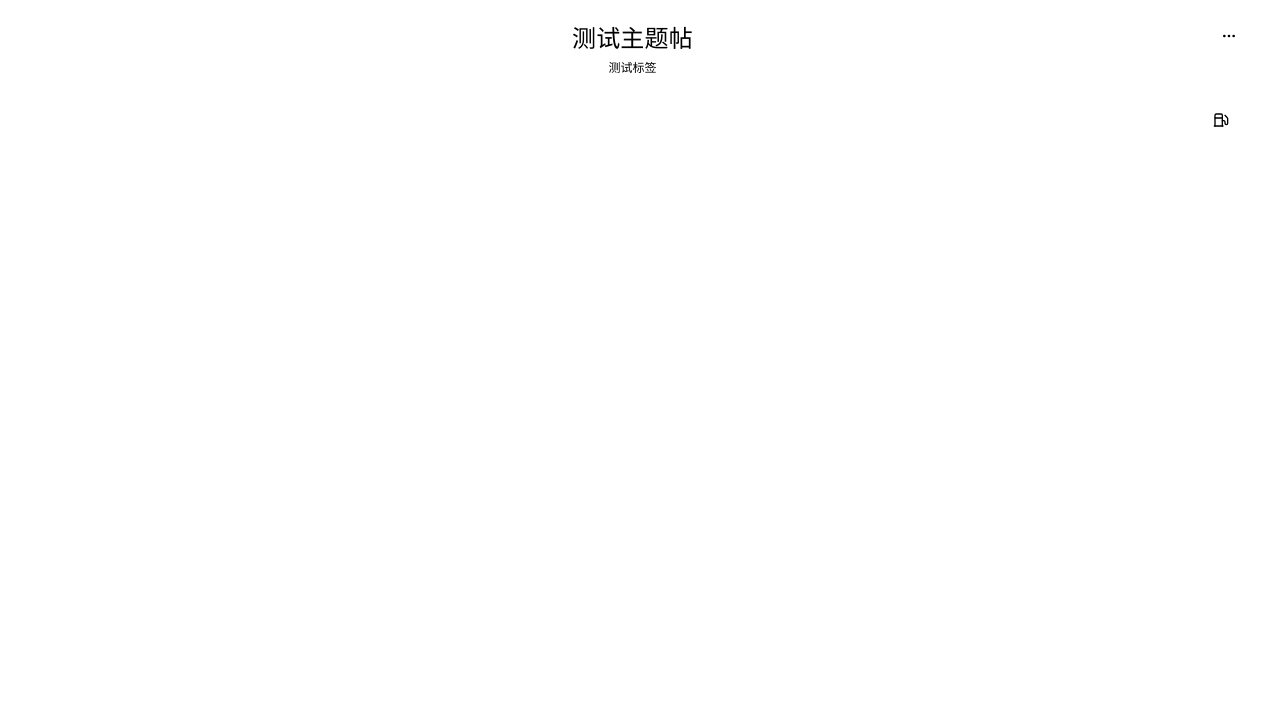
Scenario: ThreadDetailHeader › 协作者可从更多面板管理主题帖，但不可删除整帖或创建订阅
Click the button named "更多帖子信息与操作". click: {"x": 1229, "y": 36}
box: [1213,20,1245,52]
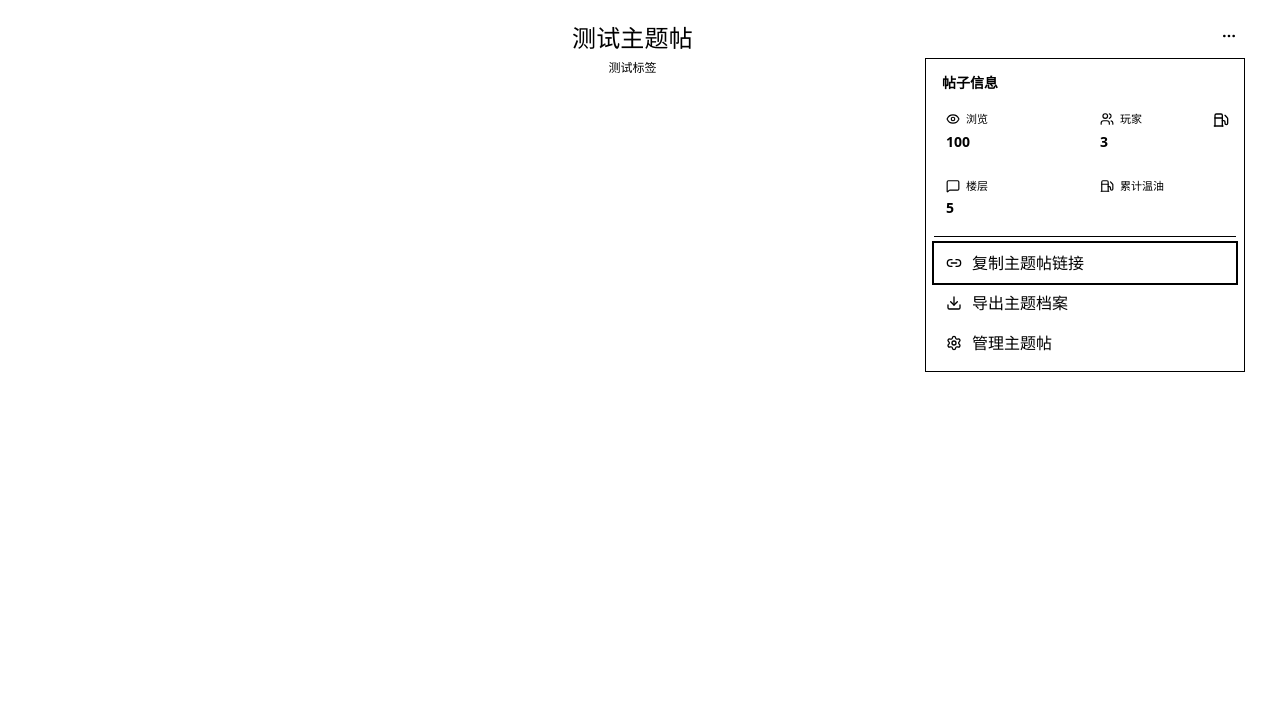
Now the button "管理主题帖" is shown, box [934,323,1236,363]
